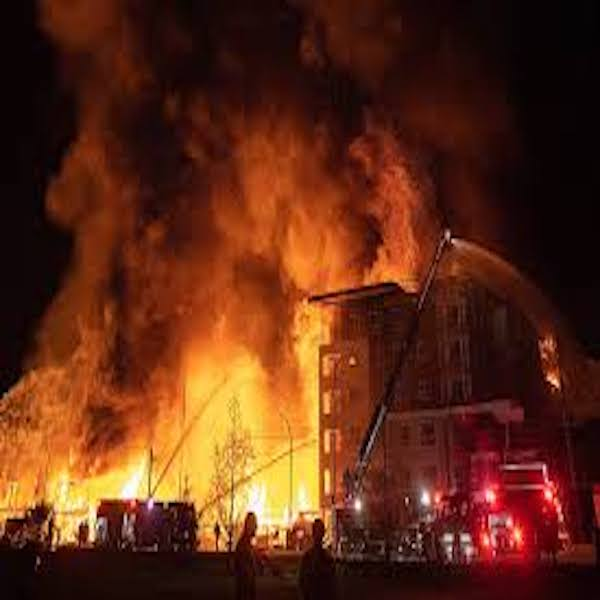fire: (8, 332, 317, 504), (113, 137, 420, 283)
